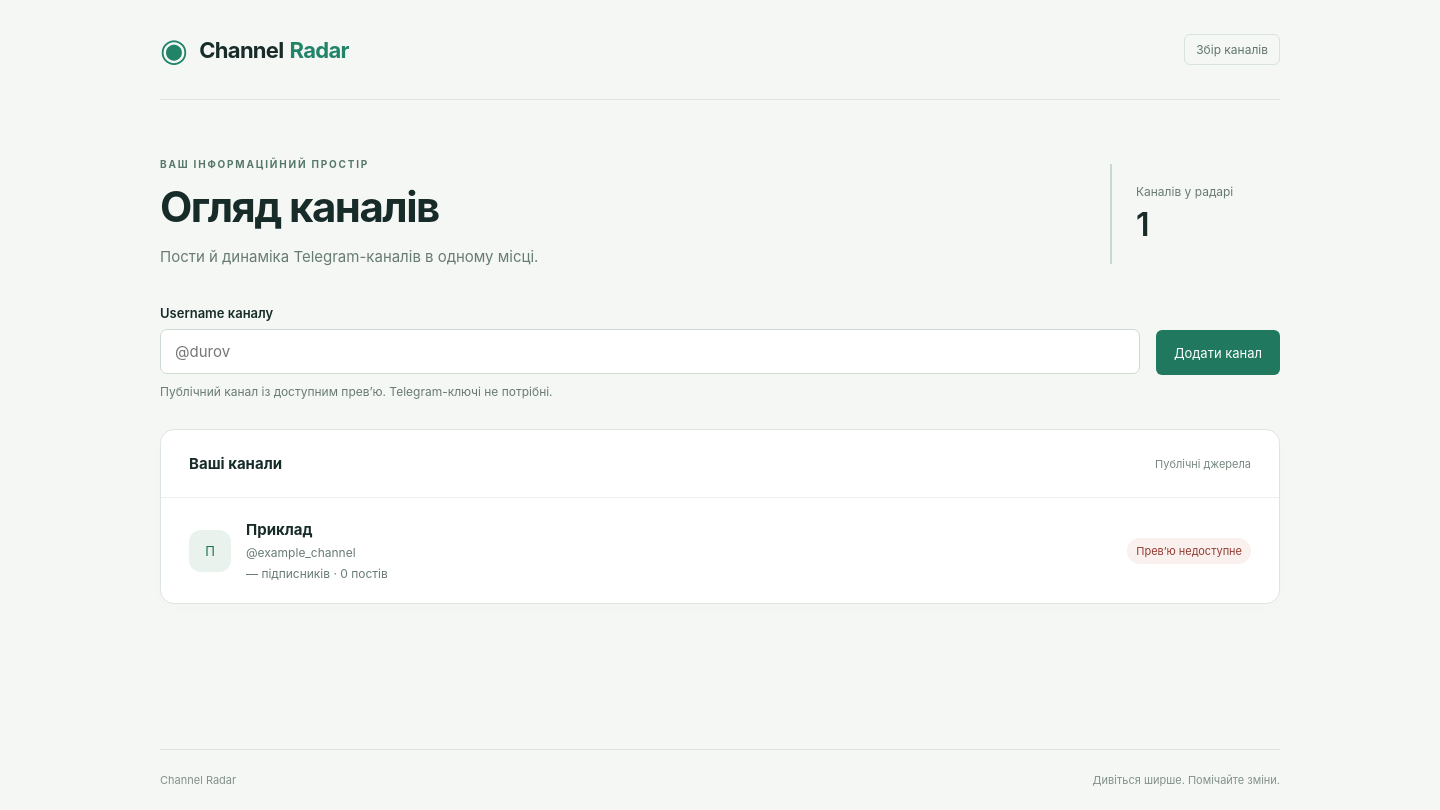
Scenario: shows unavailable and does not duplicate an existing channel
Expected: the text "Приклад" is shown, x1=246 y1=520 x2=312 y2=540
Type "@example_channel" into the field labelled "Username каналу" at coordinates (650, 352), box x1=160 y1=329 x2=1140 y2=374
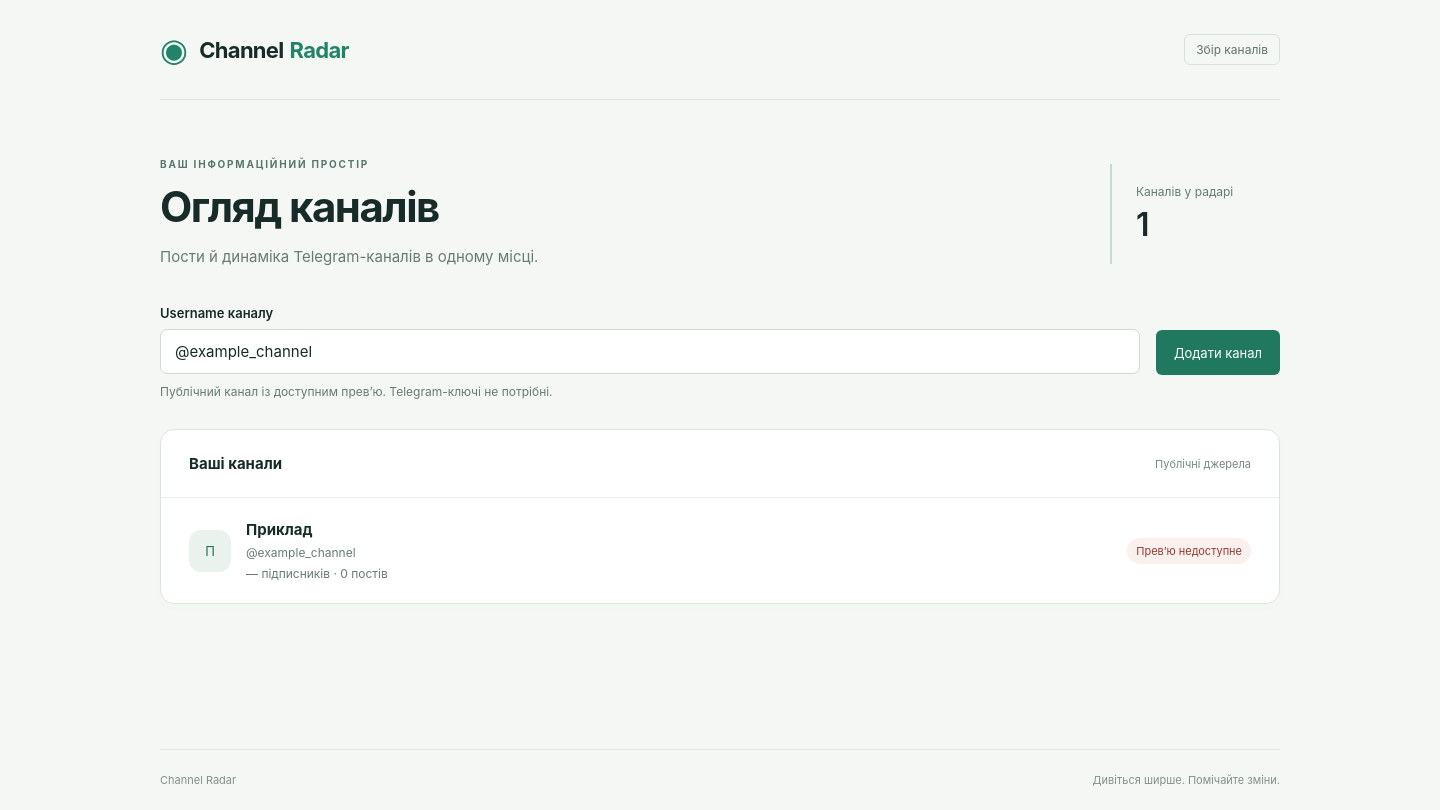
Click the button "Додати канал" at coordinates (1218, 353), box x1=1156 y1=330 x2=1280 y2=375
(page scrolled)
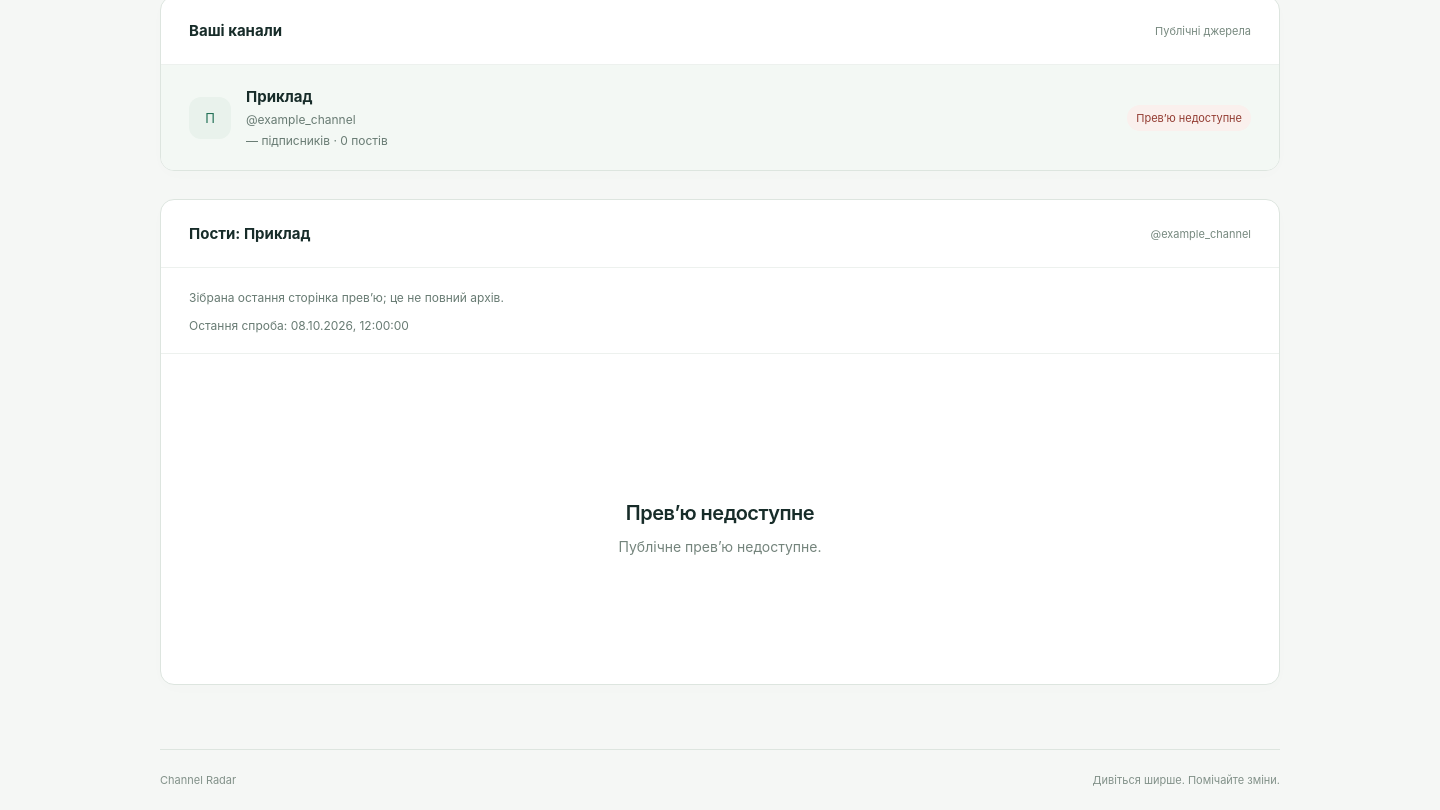
Expected: the number of list items is 1, x1=161 y1=66 x2=1279 y2=170
Now the heading "Пости: Приклад" is shown, box x1=189 y1=224 x2=310 y2=244
Now the message shows "Публічне прев’ю недоступне.", box x1=618 y1=538 x2=821 y2=555
